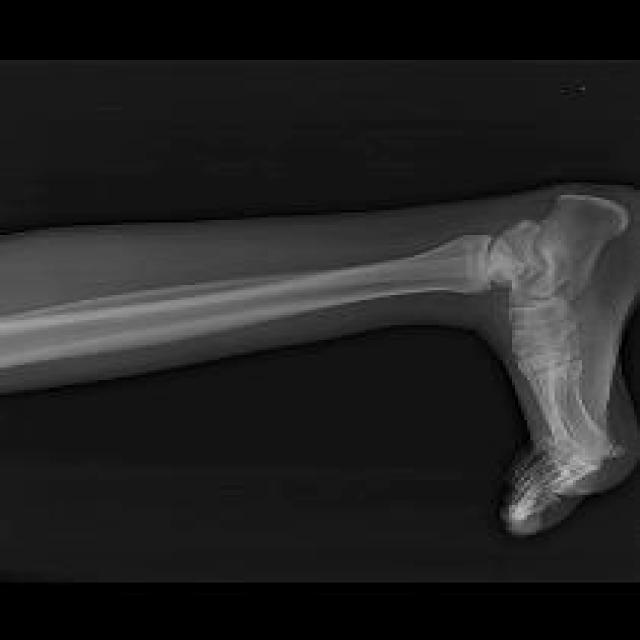normal: (2, 195, 629, 516)
